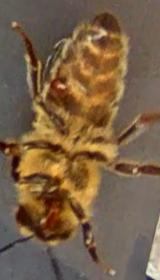varroa_mite: (45, 72, 78, 101)
